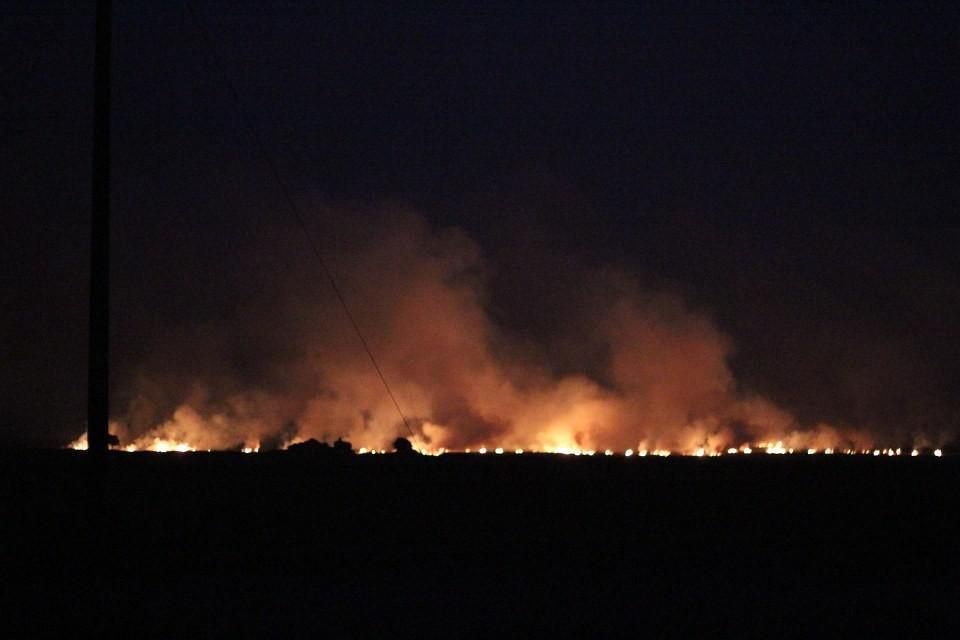fire: (45, 403, 945, 459)
